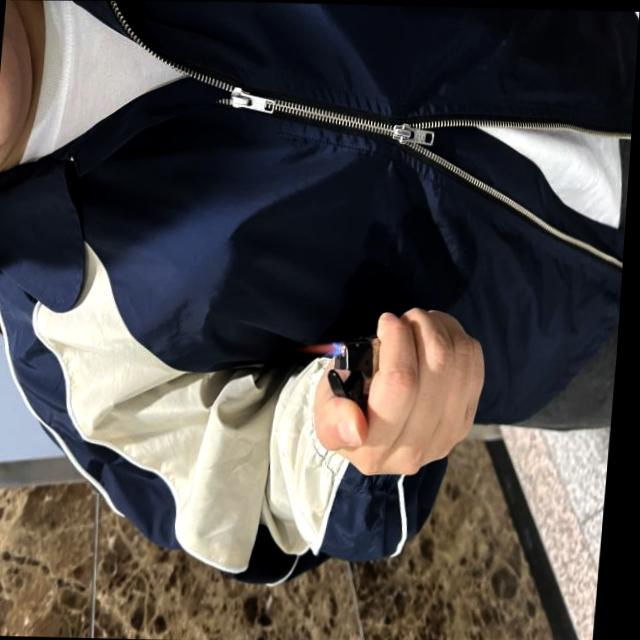Fire: (296, 337, 348, 357)
